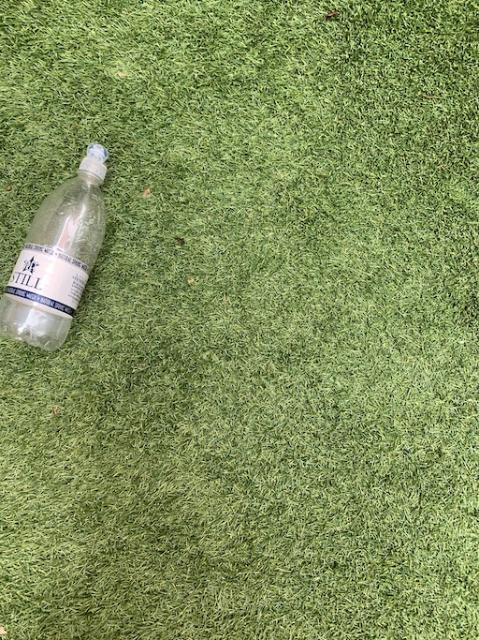plastic: (0, 142, 106, 349)
